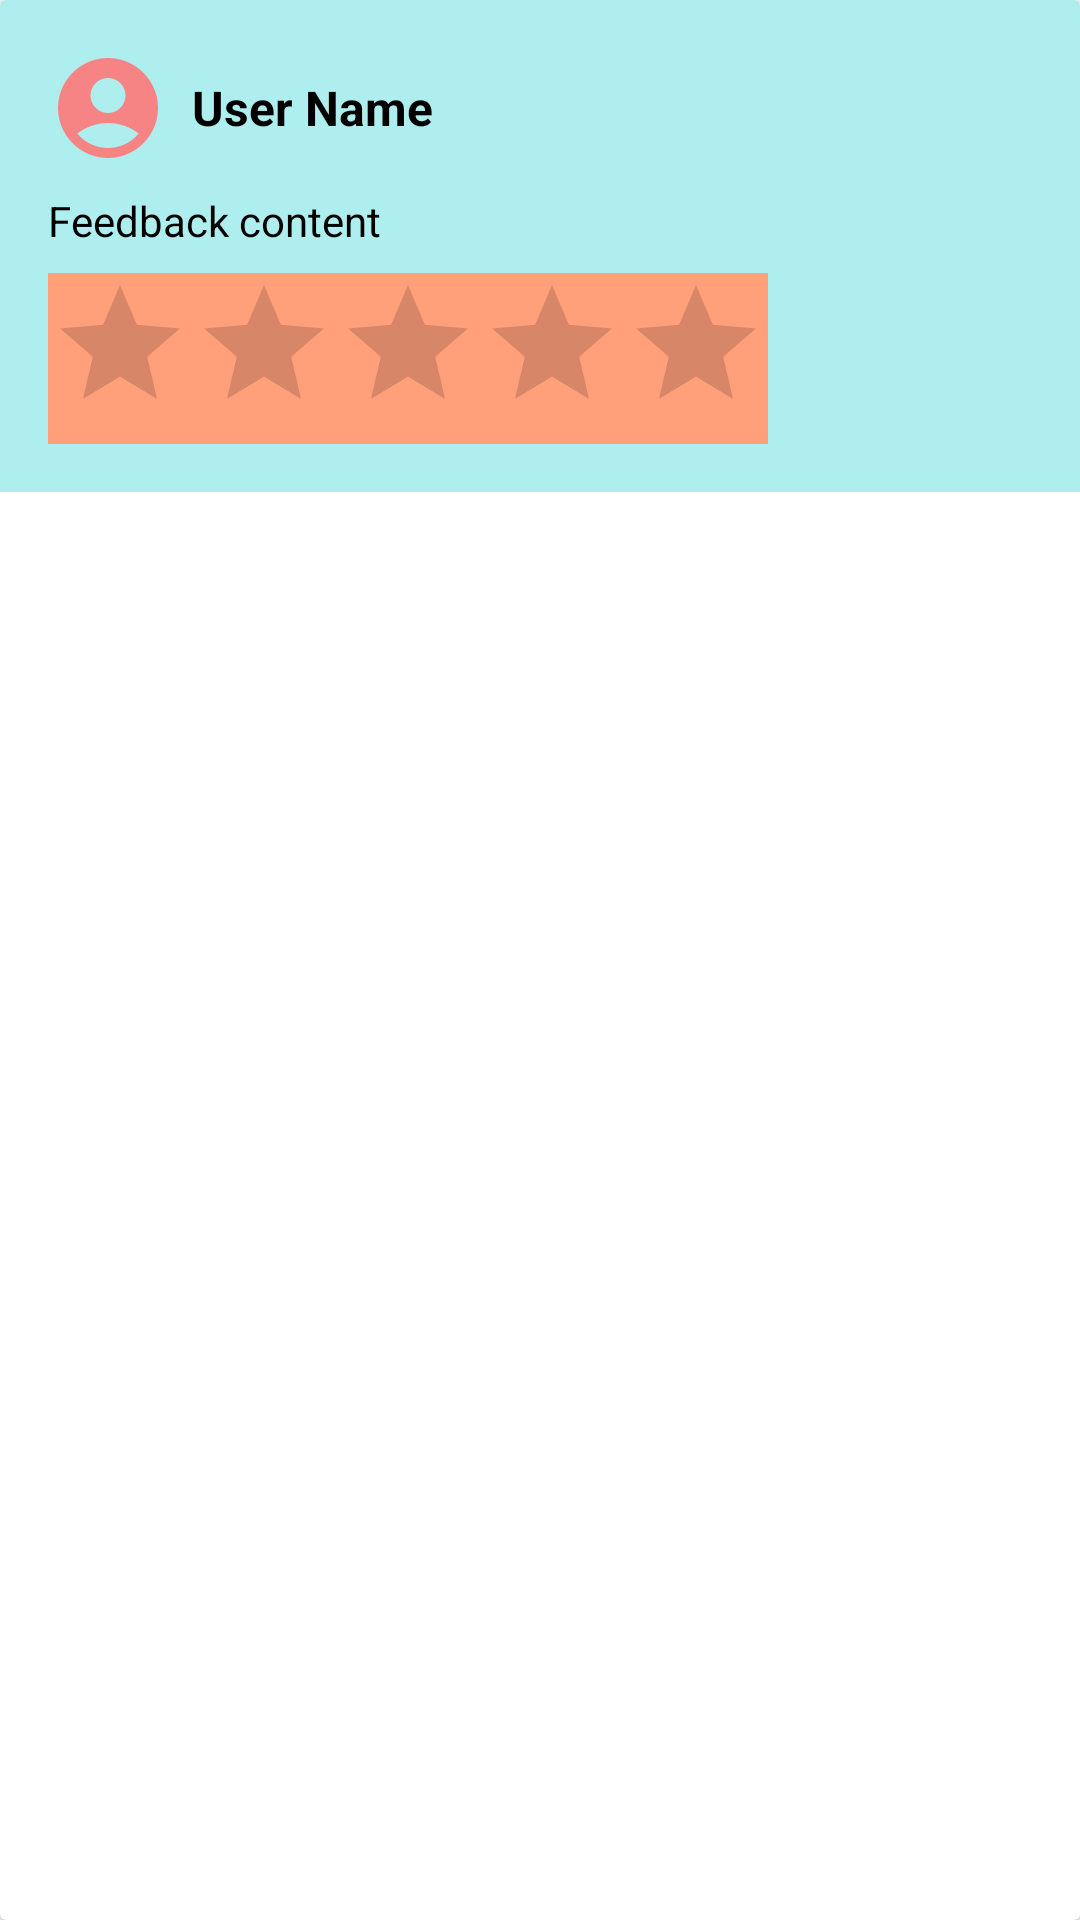

Named icons in this screenshot (1080 × 1920) and their bounding boxes, (x1, y1, x2, y2):
account circle: (58, 58, 158, 158)
